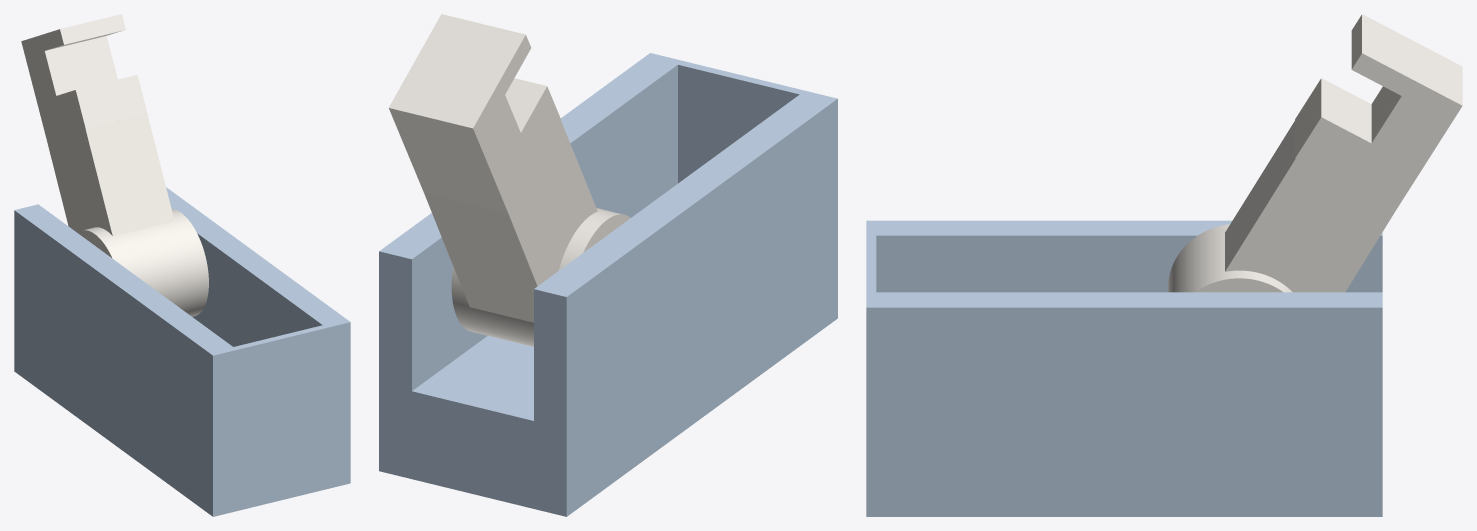
Rendered from original_at.glb.
The picture shows the model from 3 angles, left to right: view 1: azimuth 30°, elevation 25°; view 2: azimuth 150°, elevation 25°; view 3: azimuth 270°, elevation 25°; orthographic projection. The views are drawn at different scales.
Parts seen in each view (by area): view 1: connector, moving; view 2: connector, moving; view 3: connector, moving.
Boxes of the visible parts, bbox=[...] form: connector: bbox=[14, 187, 350, 516]; moving: bbox=[21, 14, 208, 316]; connector: bbox=[379, 53, 837, 516]; moving: bbox=[389, 14, 630, 346]; connector: bbox=[866, 220, 1382, 516]; moving: bbox=[1168, 14, 1462, 292].
Bounding box in the file's own units: 17.86 × 42.02 × 51.64.
